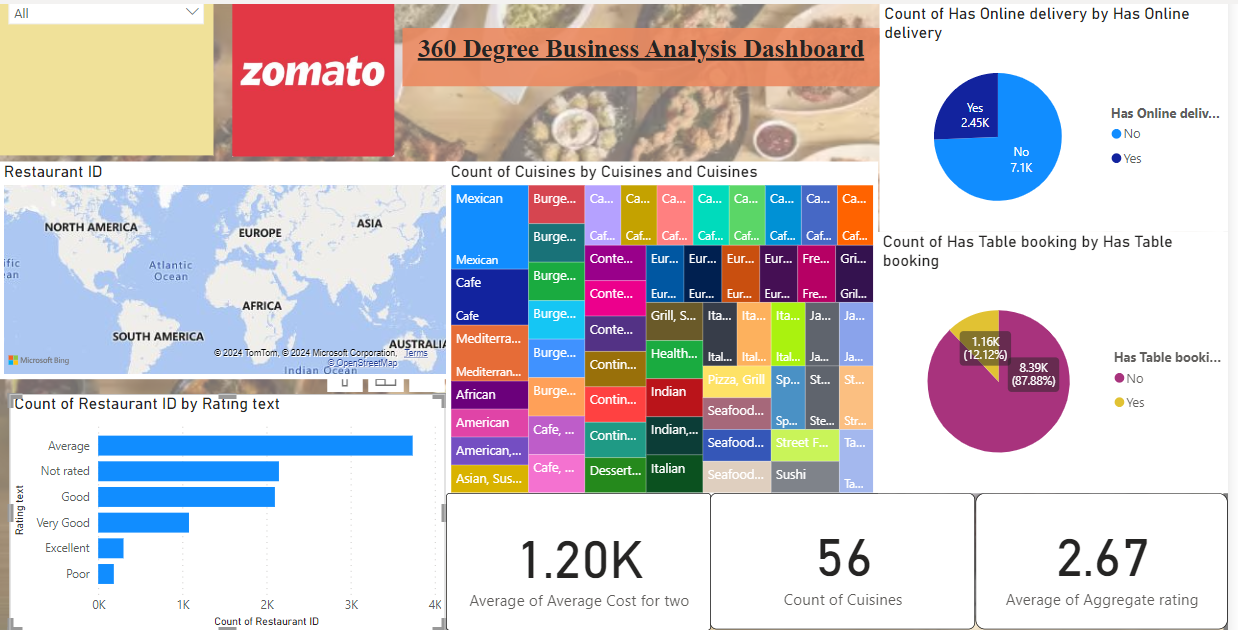

The dashboard page shown, as its layout file describes it:
{"tool":"powerbi","page":{"name":"Page 1","canvas":[1280,720],"ordinal":0},"visuals":[{"type":"slicer","fields":{"Values":["Country Master.Country"]},"box":[0,21.9,324.9,192.1],"z":0},{"type":"clusteredBarChart","fields":{"Category":["KPIs.Rating text"],"Y":["CountNonNull(KPIs.Restaurant ID)"]},"box":[10.9,462.3,454.5,246.8],"z":1},{"type":"filledMap","fields":{"Series":["KPIs.Restaurant ID"]},"box":[0,220.2,476.4,226.5],"z":2},{"type":"treemap","fields":{"Values":["CountNonNull(Zomato Africa.Cuisines)"],"Details":["Zomato Africa.Cuisines"],"Group":["Zomato Africa.Cuisines"]},"box":[465.4,220.2,449.8,349.8],"z":3},{"type":"card","fields":{"Values":["Avg(KPIs.Average Cost for two)"]},"box":[464.9,565,275.9,143.6],"z":4},{"type":"card","fields":{"Values":["Count(Zomato Africa.Cuisines)"]},"box":[740.8,565,275.9,141.7],"z":5},{"type":"card","fields":{"Values":["Avg(KPIs.Aggregate rating)"]},"box":[1016.7,565,262.7,141.7],"z":6},{"type":"pieChart","fields":{"Category":["KPIs.Has Online delivery"],"Y":["CountNonNull(KPIs.Has Online delivery)"]},"box":[916.8,21.9,363.9,271.8],"z":7},{"type":"pieChart","fields":{"Category":["KPIs.Has Table booking"],"Y":["CountNonNull(KPIs.Has Table booking)"]},"box":[915.2,293.6,365.5,271.8],"z":8},{"type":"textbox","box":[324.9,81.2,591.9,60.9],"z":9}]}

Visuals, with their boxes on the page's 1280x720 design canvas (x1, y1, x2, y2). These are canvas units, not pixel positions in the 1238x630 screenshot, which may show the page scaled, cropped or inside an application window:
slicer - Country Master.Country: 0 22 325 214
clusteredBarChart - KPIs.Rating text x CountNonNull(KPIs.Restaurant ID): 11 462 465 709
filledMap - KPIs.Restaurant ID: 0 220 476 447
treemap - CountNonNull(Zomato Africa.Cuisines) x Zomato Africa.Cuisines: 465 220 915 570
card - Avg(KPIs.Average Cost for two): 465 565 741 709
card - Count(Zomato Africa.Cuisines): 741 565 1017 707
card - Avg(KPIs.Aggregate rating): 1017 565 1279 707
pieChart - KPIs.Has Online delivery x CountNonNull(KPIs.Has Online delivery): 917 22 1281 294
pieChart - KPIs.Has Table booking x CountNonNull(KPIs.Has Table booking): 915 294 1281 565
textbox: 325 81 917 142
